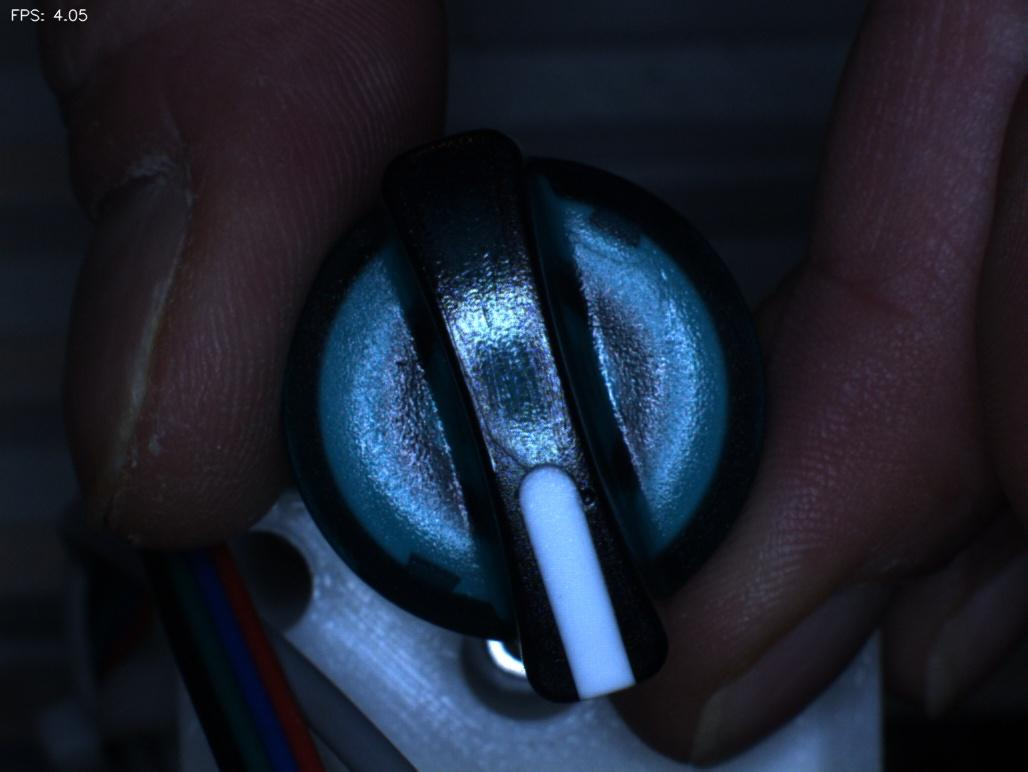Choc: (547, 458, 630, 534)
